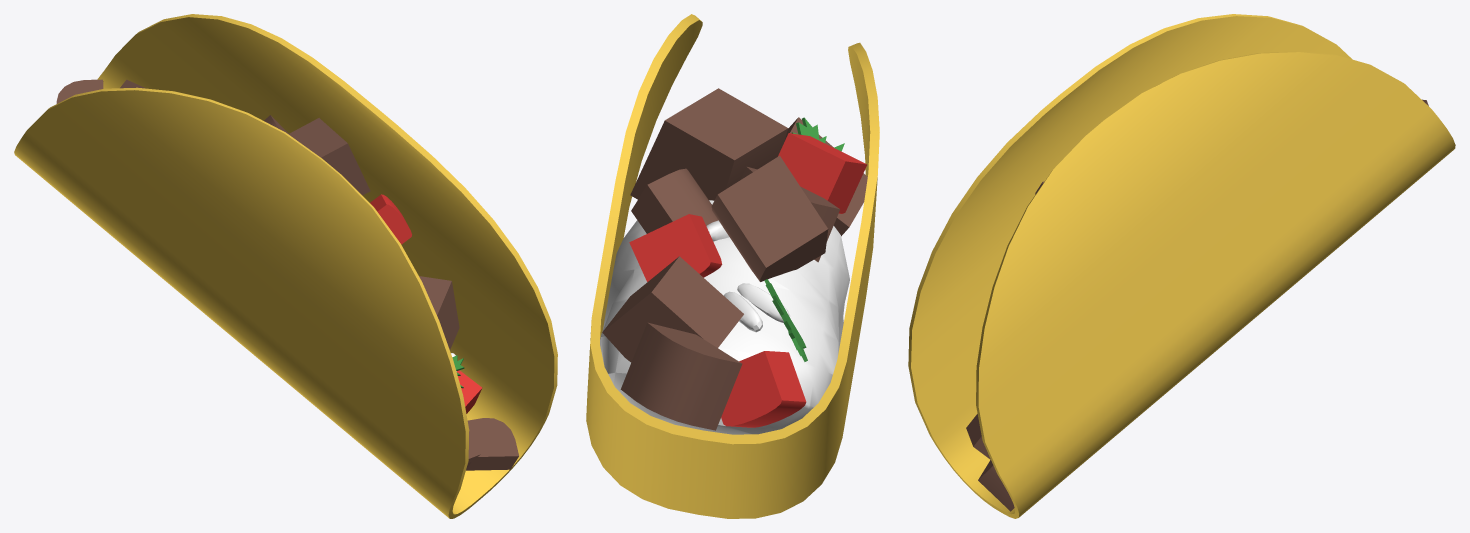
The model's file is taco.glb.
3 renders of one model, left to right at view 1: azimuth 30°, elevation 25°; view 2: azimuth 150°, elevation 25°; view 3: azimuth 270°, elevation 25°, orthographic. The views are drawn at different scales.
Parts seen in each view (by area): view 1: Cube.354; view 2: Cube.354; view 3: Cube.354.
Part boxes in pixels (x1,y1,x2,y2): Cube.354: (14,14,557,518); Cube.354: (586,14,879,518); Cube.354: (908,14,1455,518).
Size of the model in its own units: 1.9 by 2.14 by 2.57.
Materials: 1 (1 with a texture image).
